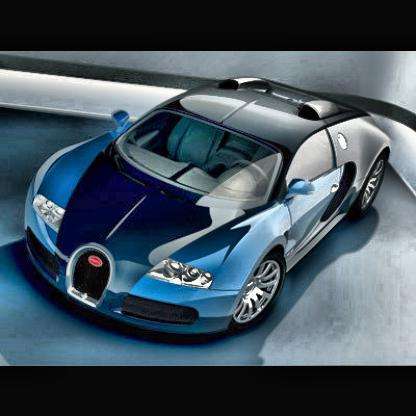Bugatti Veyron 16-4 Coupe 2009: (28, 75, 395, 330)
